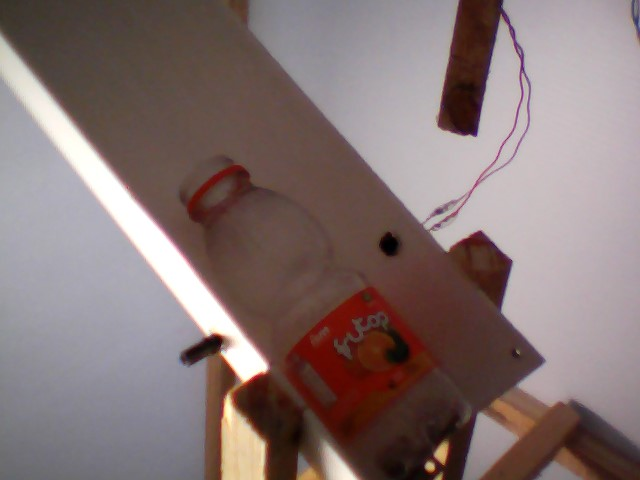plastico: (166, 153, 477, 480)
